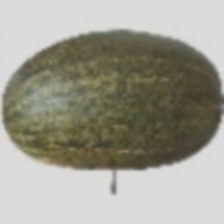honeydew: (44, 45, 222, 189)
